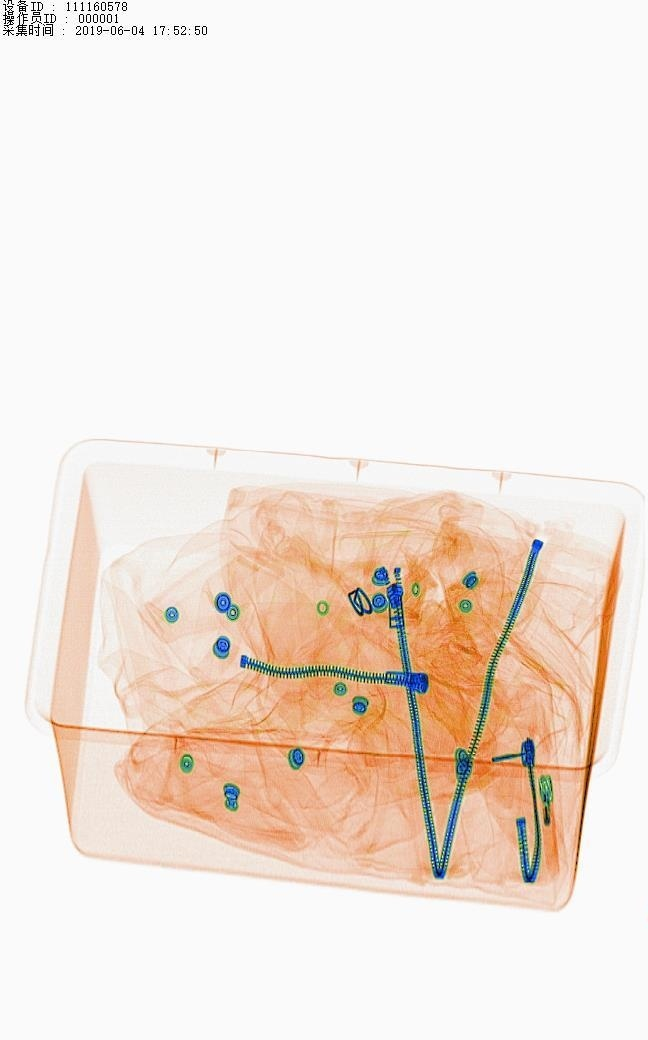NonmetallicFire: (518, 754, 590, 895)
